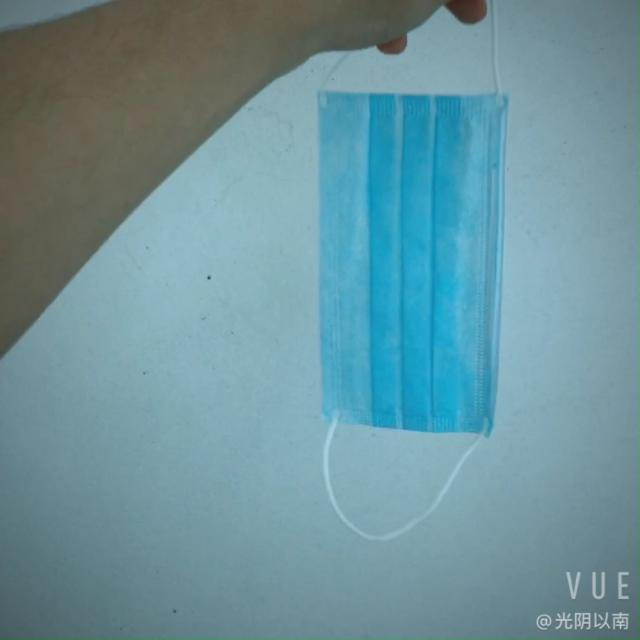non-organic waste: (291, 32, 530, 449)
